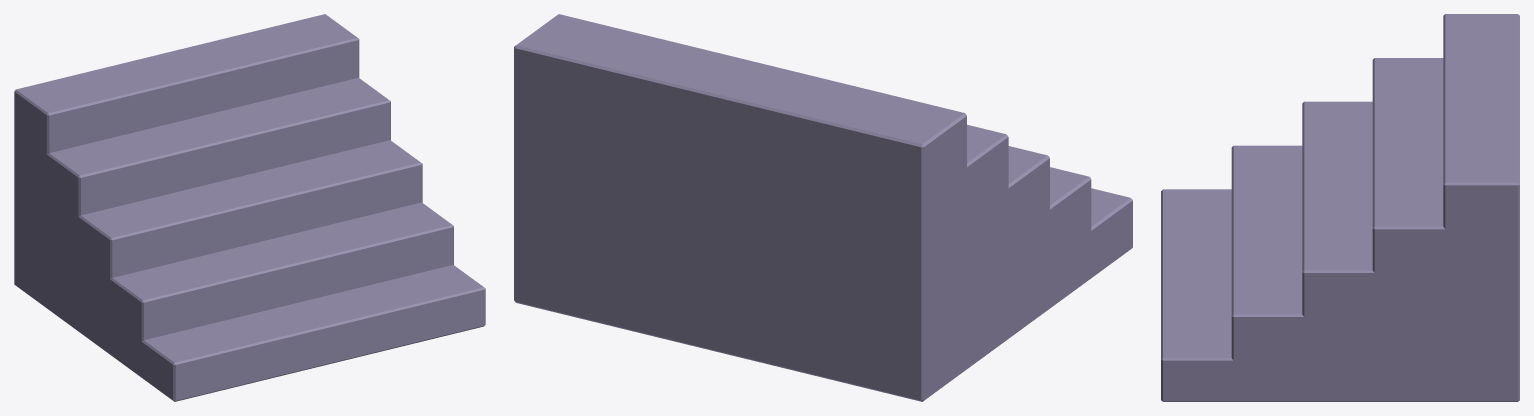
File: SH10_L09_RoyalStairs.fbx
3 renders of one model, left to right at view 1: azimuth 30°, elevation 25°; view 2: azimuth 150°, elevation 25°; view 3: azimuth 270°, elevation 25°, orthographic. The views are drawn at different scales.
Visible parts, largest first — view 1: SH10_L09_RoyalStairs; view 2: SH10_L09_RoyalStairs; view 3: SH10_L09_RoyalStairs.
Part boxes in pixels (x1,y1,x2,y2): SH10_L09_RoyalStairs: [14, 14, 485, 401]; SH10_L09_RoyalStairs: [514, 14, 1132, 401]; SH10_L09_RoyalStairs: [1161, 14, 1519, 401].
Size of the model in its own units: 200 by 120 by 178.
